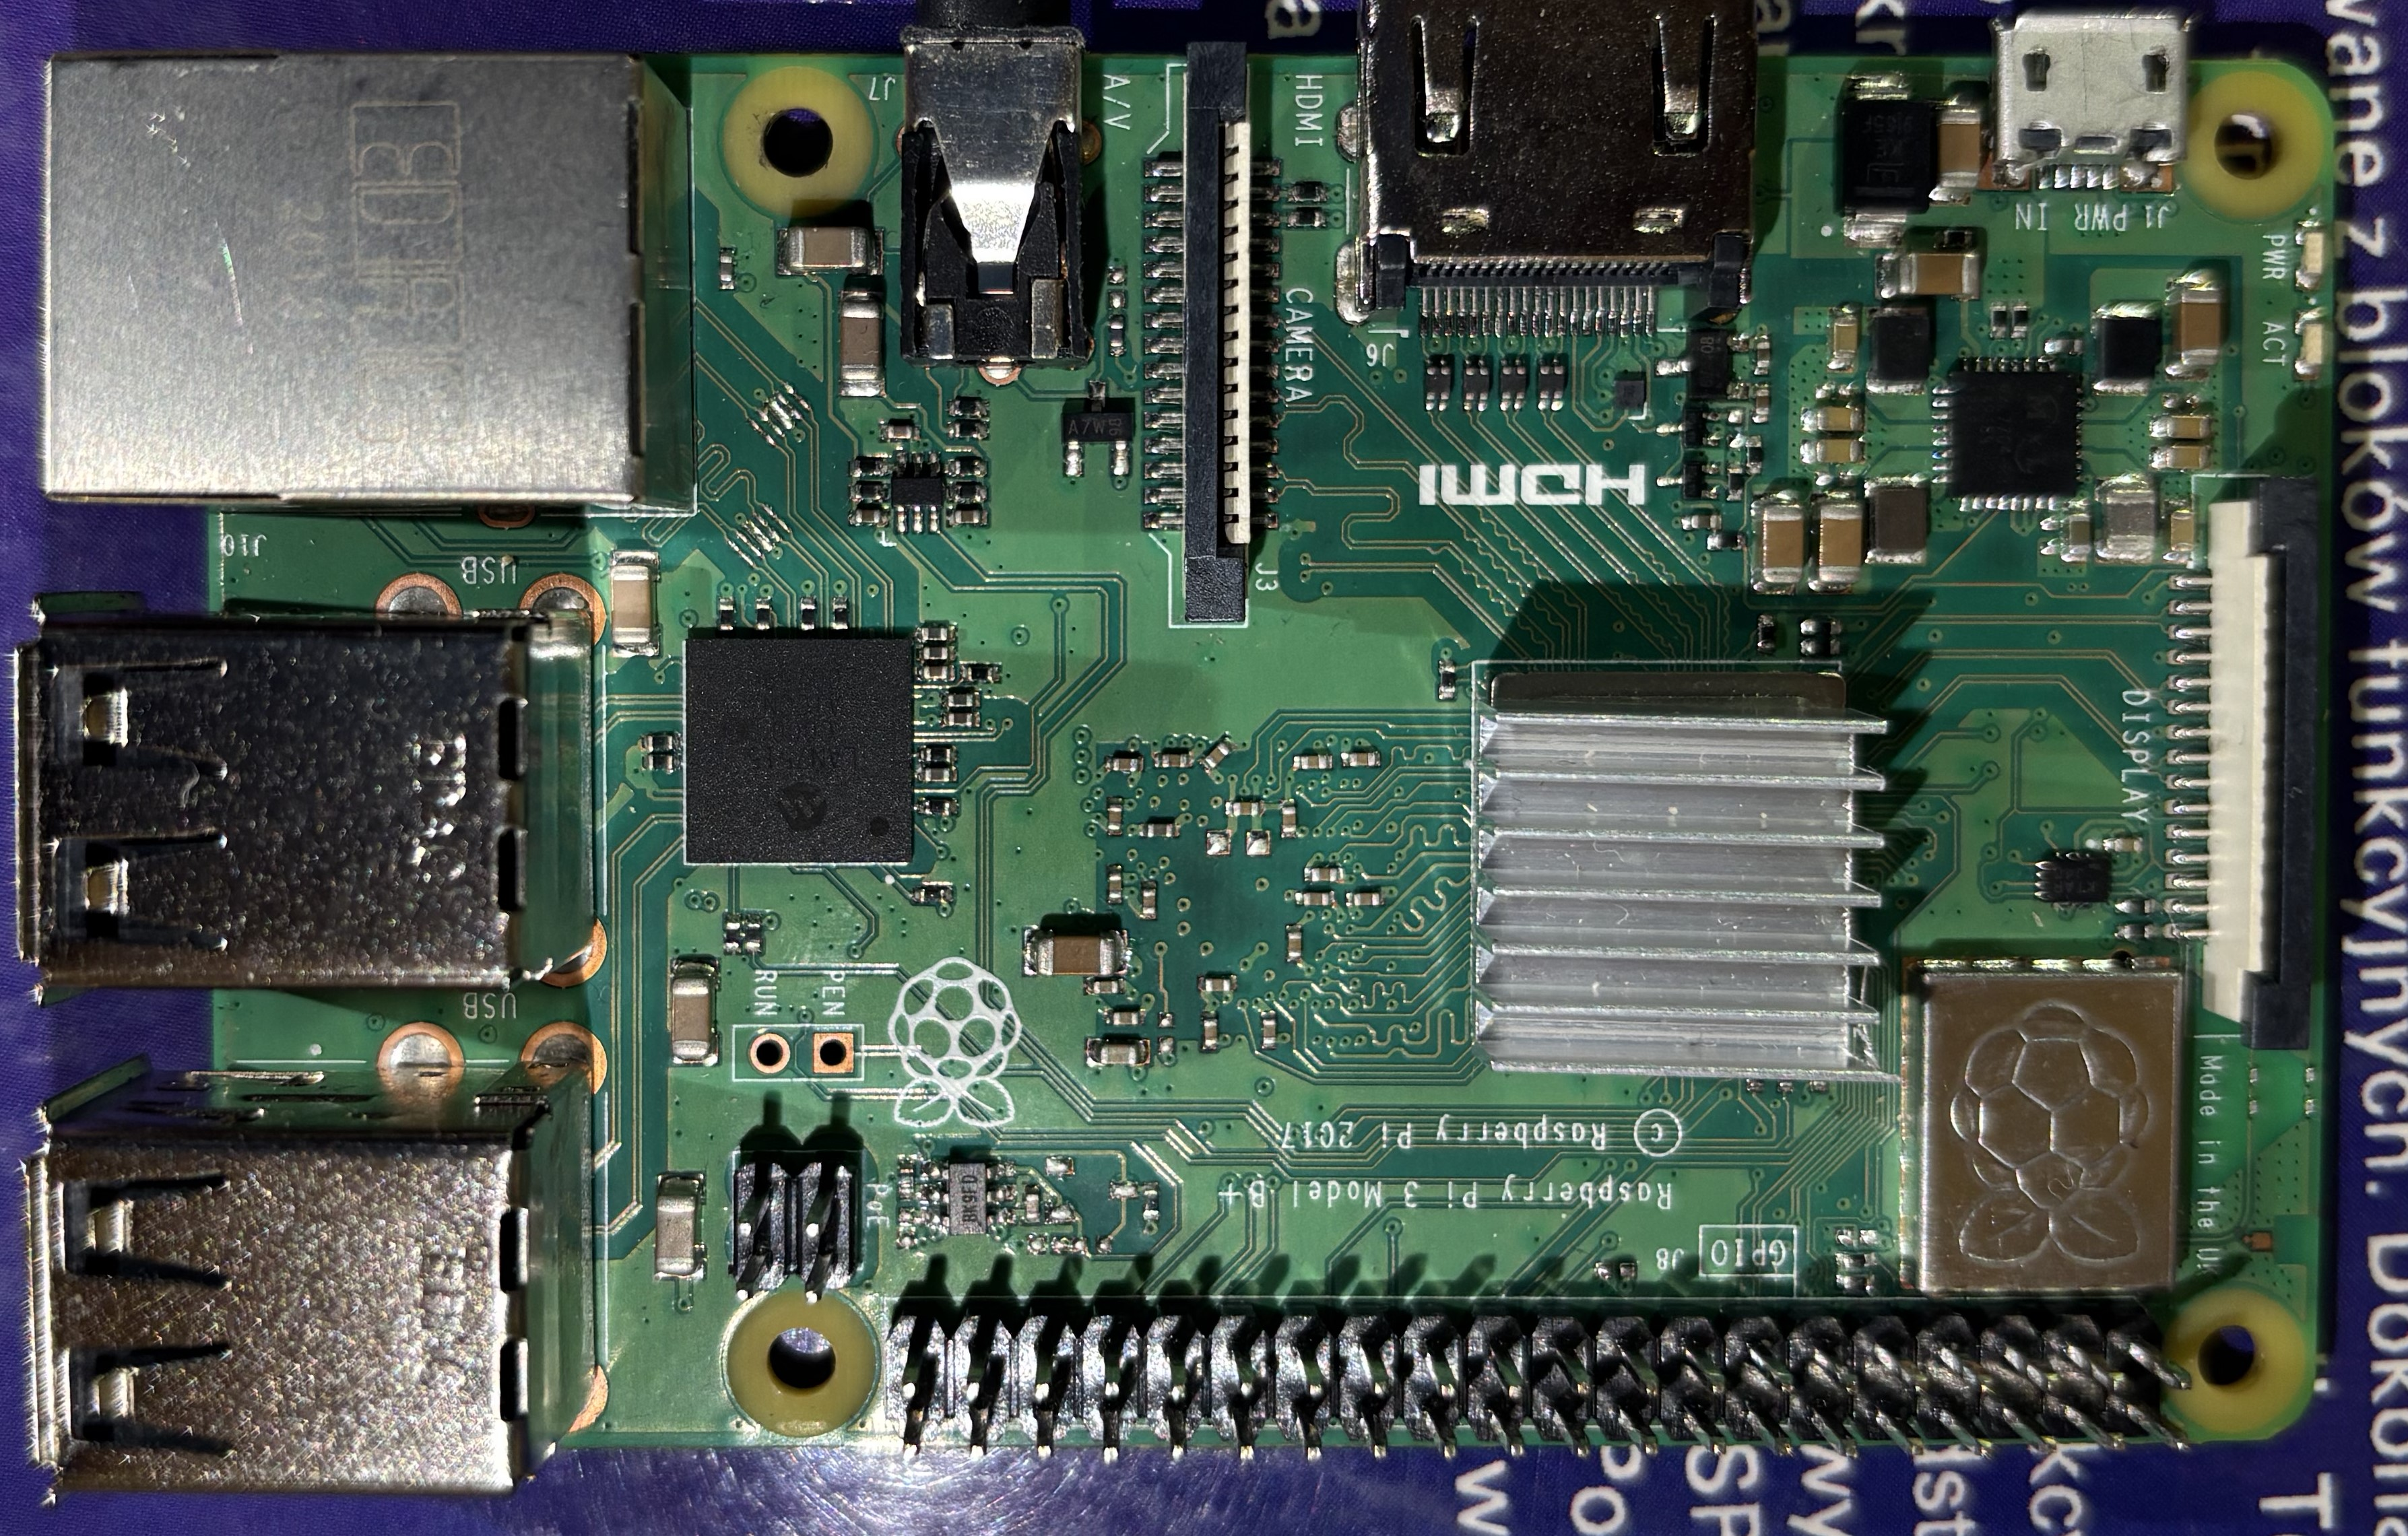Induktor: (1869, 312, 1927, 386), (2096, 314, 2154, 388), (1869, 483, 1927, 553), (1536, 358, 1562, 409), (1499, 358, 1523, 409), (1464, 358, 1487, 411), (1425, 358, 1448, 409)
